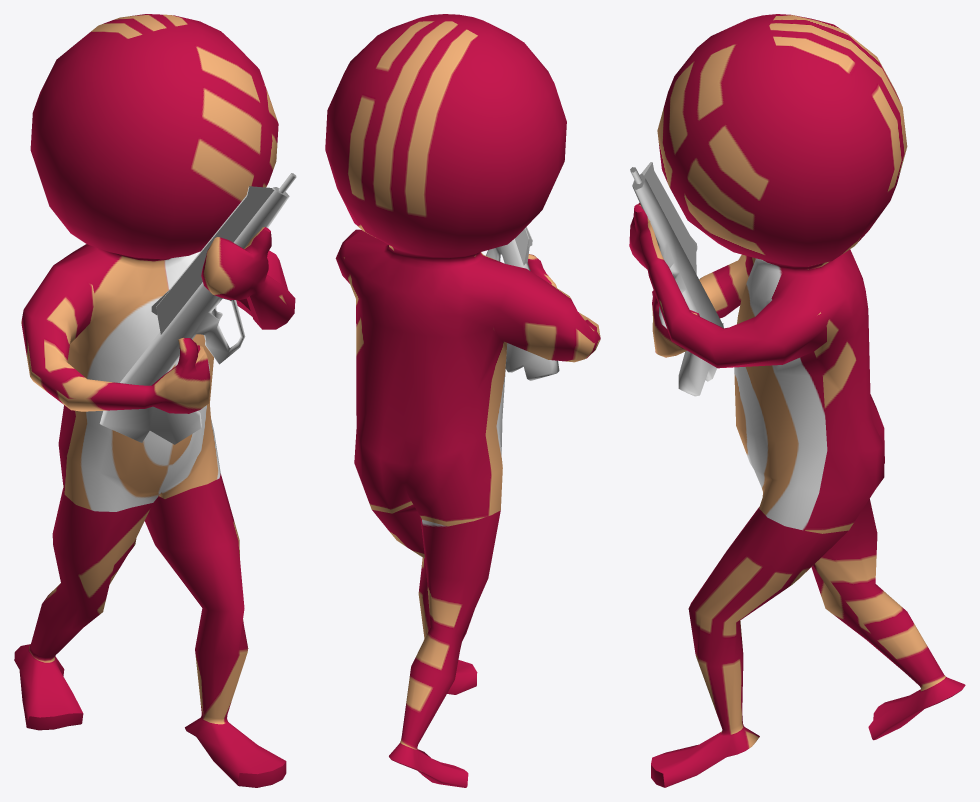
File: hwan_decentralized_soldier.obj
The picture shows the model from 3 angles, left to right: view 1: azimuth 30°, elevation 25°; view 2: azimuth 150°, elevation 25°; view 3: azimuth 270°, elevation 25°; orthographic projection. The views are drawn at different scales.
Visible parts, largest first — view 1: Virtual_Man, Object01; view 2: Virtual_Man, Object01; view 3: Virtual_Man, Object01.
Part boxes in pixels (x1=…): Virtual_Man: x1=14, y1=14, x2=295, y2=787; Object01: x1=99, y1=173, x2=296, y2=444; Virtual_Man: x1=325, y1=14, x2=600, y2=787; Object01: x1=486, y1=226, x2=559, y2=380; Virtual_Man: x1=629, y1=14, x2=965, y2=787; Object01: x1=630, y1=162, x2=723, y2=396.
Size of the model in its own units: 0.7557 by 2.08 by 0.8682.
